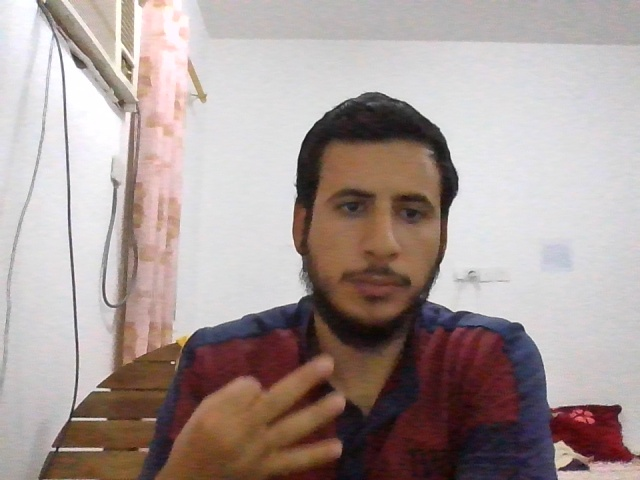Three: (166, 353, 346, 480)
